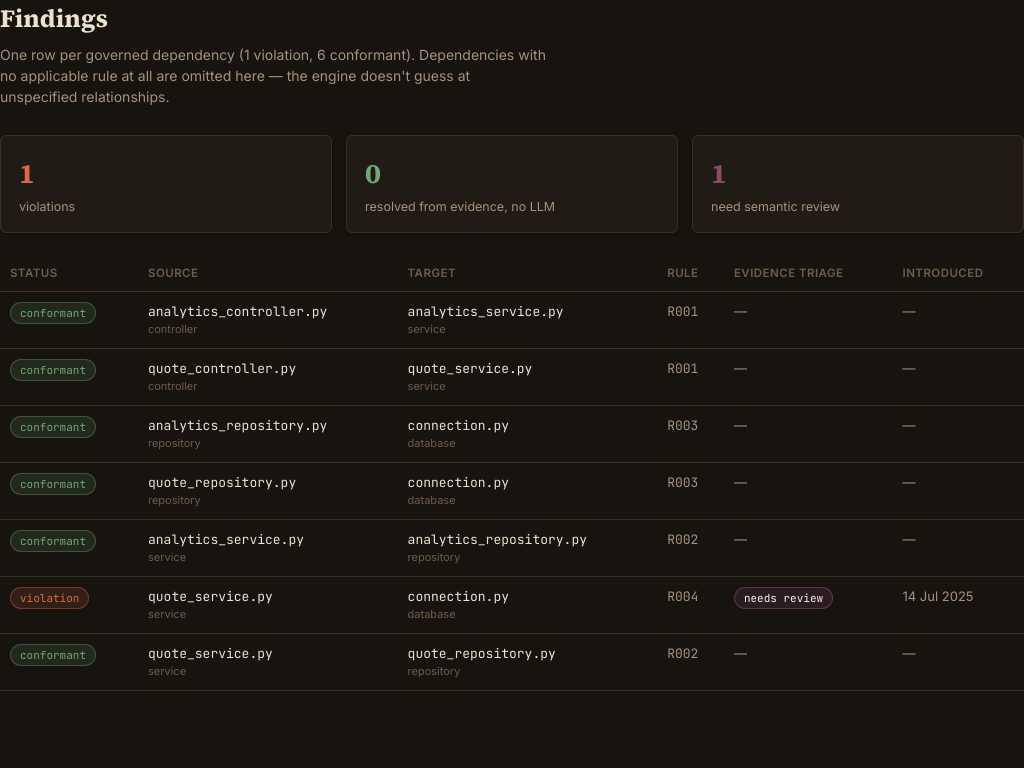
Finding detail › tells the user how to configure an LLM when none is set up
Click the row that starts with "violation" at x=512, y=604, box [0, 576, 1023, 633]
(page scrolled)
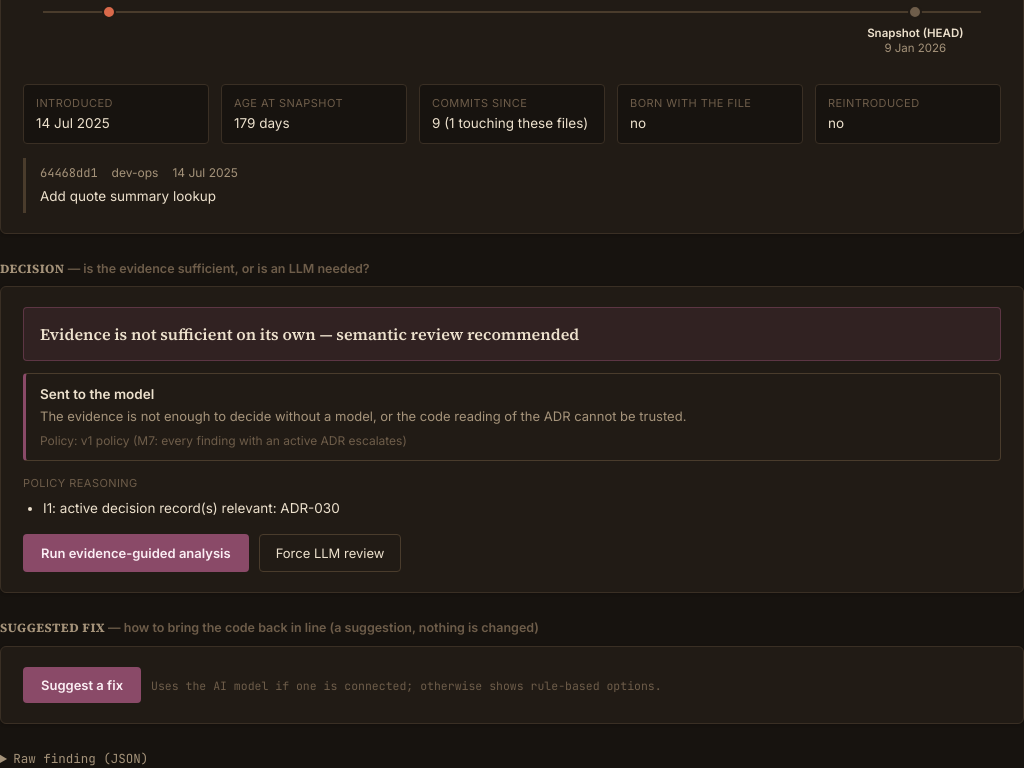
Result: the element with test id "decision-panel" is shown at [23, 307, 1001, 572]
Click the button "Run evidence-guided analysis" at x=136, y=553, box [23, 534, 249, 572]
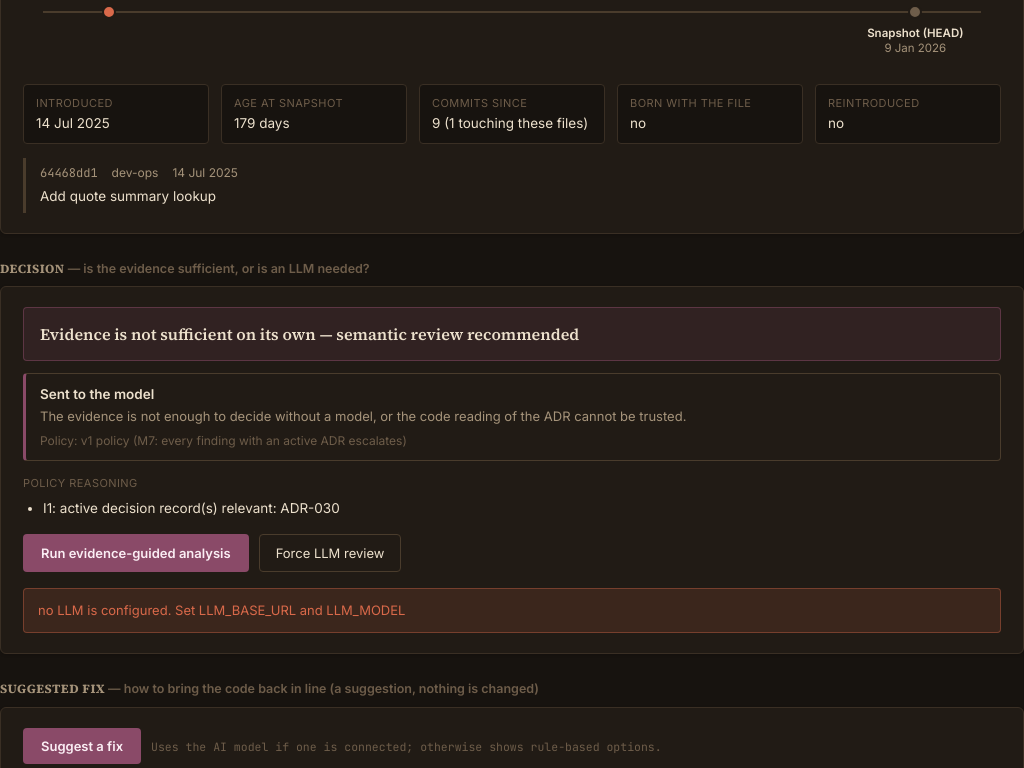
Result: the button "Run evidence-guided analysis" is enabled at [23, 534, 249, 572]
Result: the text with test id "decision-error" shows "LLM_BASE_URL" at [38, 602, 405, 618]
